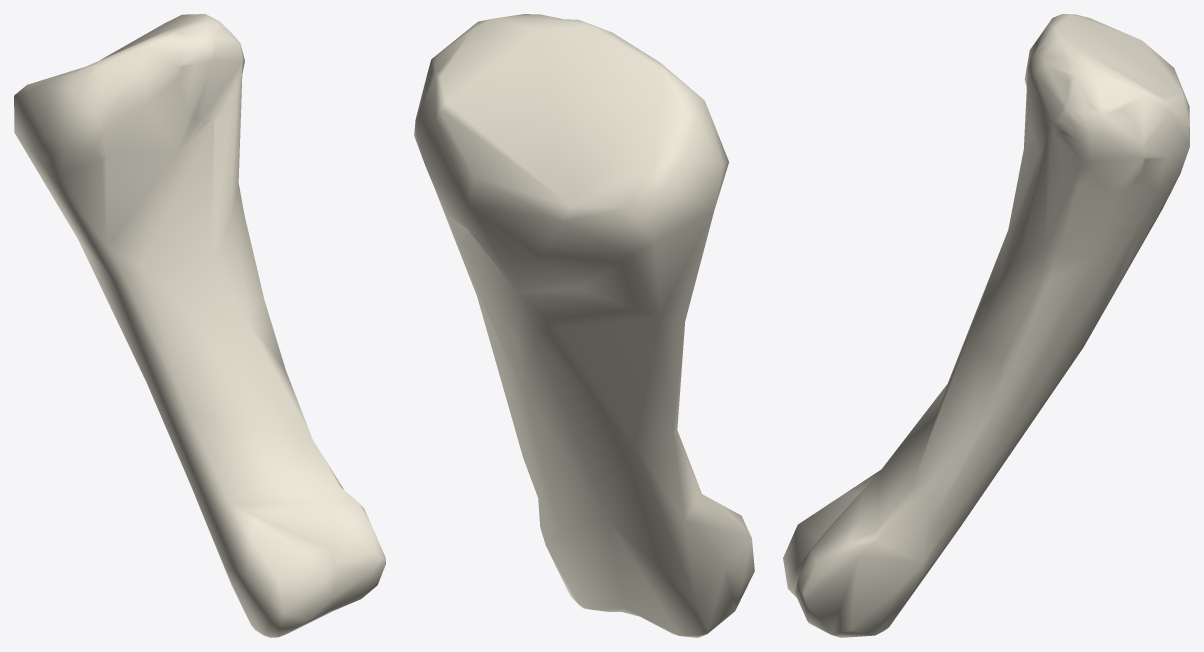
3 views of the same model, side by side, from view 1: azimuth 30°, elevation 25°; view 2: azimuth 150°, elevation 25°; view 3: azimuth 270°, elevation 25° (orthographic). The views are drawn at different scales.
Visible parts, largest first — view 1: ZA_5a47814091b92245; view 2: ZA_5a47814091b92245; view 3: ZA_5a47814091b92245.
Boxes of the visible parts, box(x1,y1,x2,y2) form: ZA_5a47814091b92245: box(14, 14, 385, 637); ZA_5a47814091b92245: box(414, 14, 754, 637); ZA_5a47814091b92245: box(783, 14, 1189, 637).
Size of the model in its own units: 0.0148 by 0.0338 by 0.0216.
